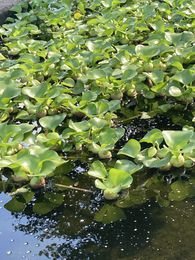water_hyacinth: (0, 9, 194, 200)
